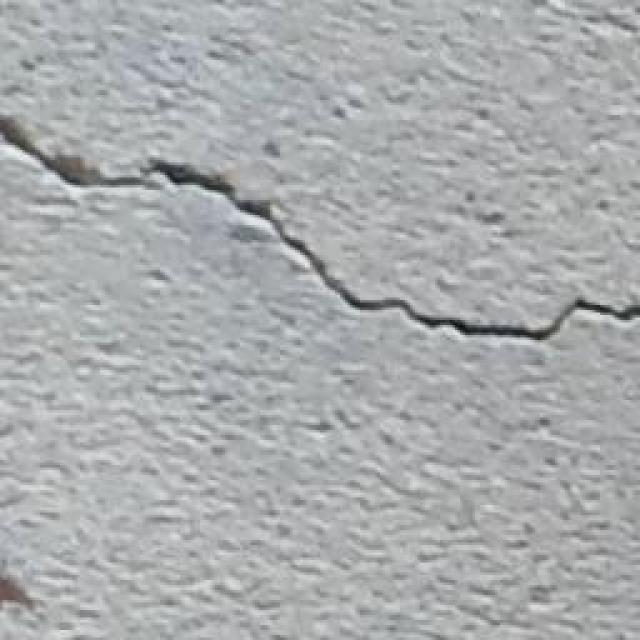concrete-crack: (0, 116, 640, 344)
